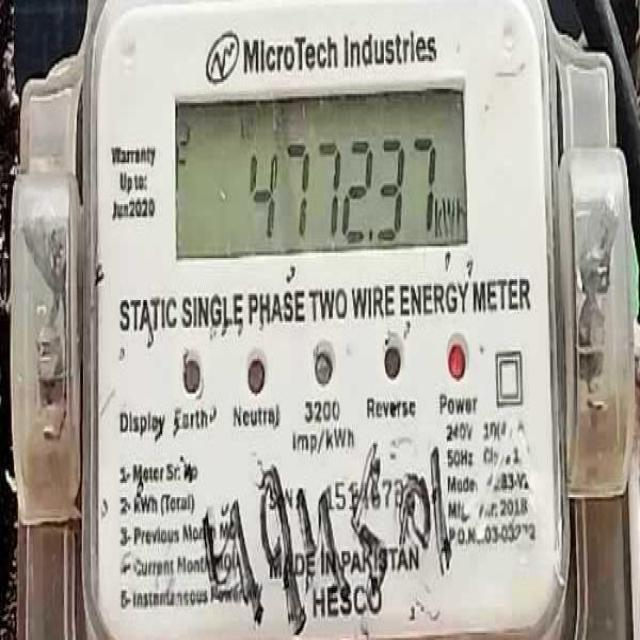2: (343, 129, 371, 247)
3: (378, 127, 408, 246)
4: (245, 145, 280, 247)
7: (279, 128, 315, 248), (407, 132, 440, 237), (316, 127, 343, 250)
Digital meter: (179, 103, 467, 250)
point: (368, 227, 377, 244)
